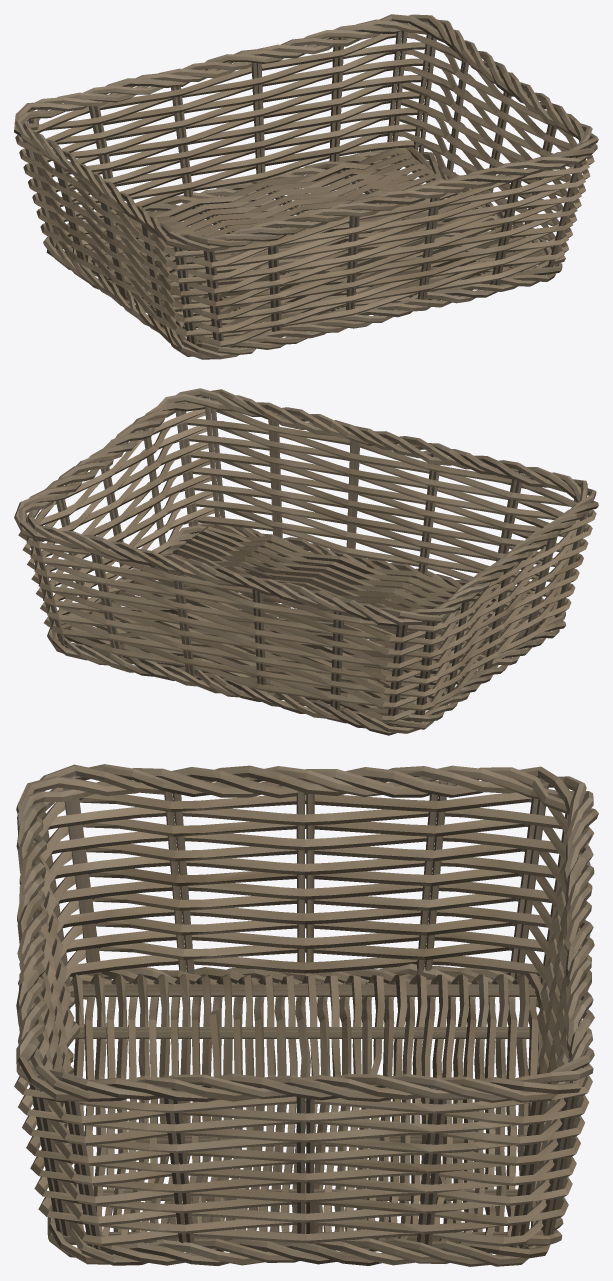
File: wicker_basket_01.glb
The picture shows the model from 3 angles, top to bottom: view 1: azimuth 30°, elevation 25°; view 2: azimuth 150°, elevation 25°; view 3: azimuth 270°, elevation 25°; orthographic projection. The views are drawn at different scales.
Parts seen in each view (by area): view 1: geometry_0; view 2: geometry_0; view 3: geometry_0.
Boxes of the visible parts, bbox=[...] form: geometry_0: bbox=[14, 14, 598, 359]; geometry_0: bbox=[14, 388, 598, 735]; geometry_0: bbox=[14, 764, 598, 1266].
Size of the model in its own units: 0.3832 by 0.1174 by 0.295.
